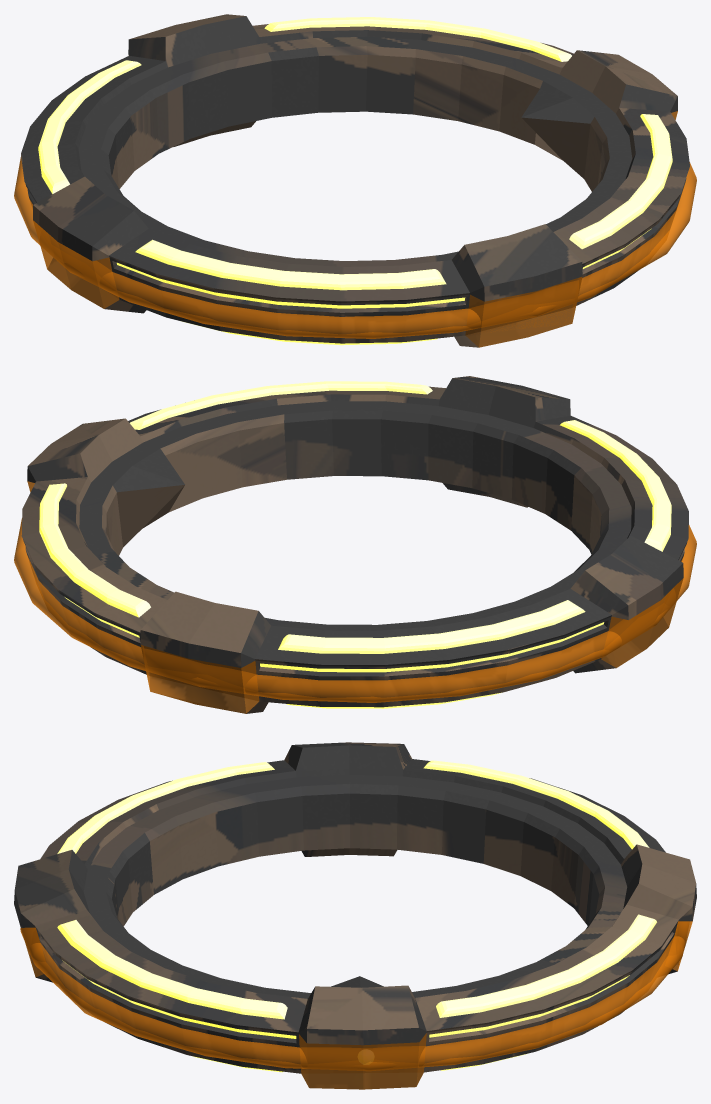
Rendered from ring4.fbx.
3 renders of one model, top to bottom at view 1: azimuth 30°, elevation 25°; view 2: azimuth 150°, elevation 25°; view 3: azimuth 270°, elevation 25°, orthographic.
Visible parts, largest first — view 1: Circle; view 2: Circle; view 3: Circle.
Part boxes in pixels (box(x1,y1,x2,y2)): Circle: box(14, 14, 696, 347); Circle: box(14, 376, 696, 713); Circle: box(14, 742, 696, 1089).
Size of the model in its own units: 7.49 by 1.26 by 7.49.
